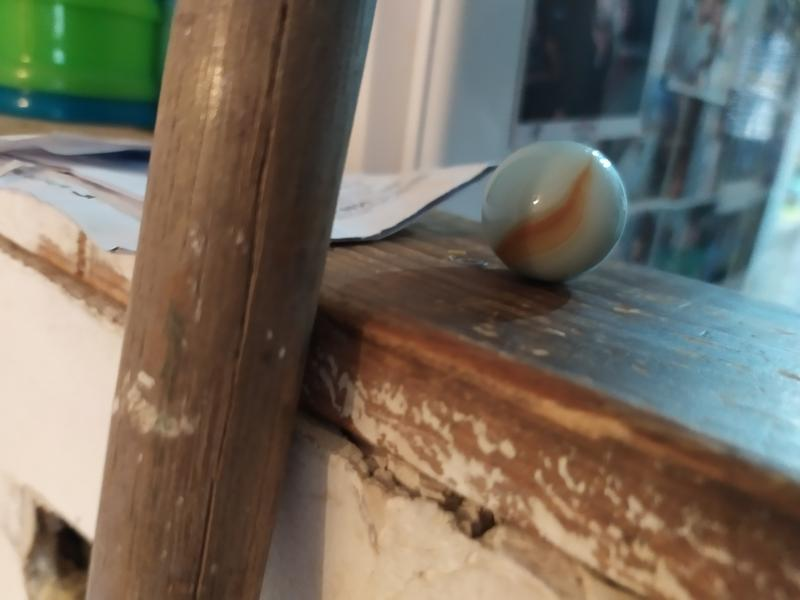Warning: (477, 134, 632, 288)
